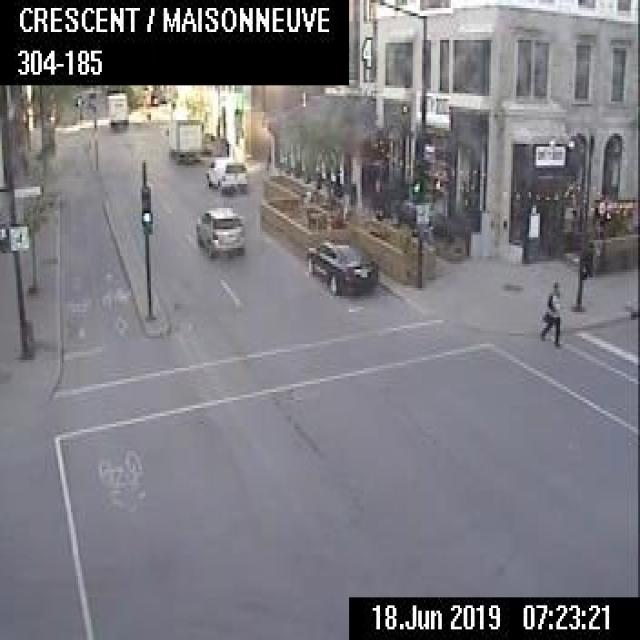pedestrian: (536, 277, 562, 347)
vehicle: (305, 234, 377, 293), (195, 206, 245, 256), (164, 115, 202, 160), (205, 154, 246, 192), (106, 88, 129, 127)
